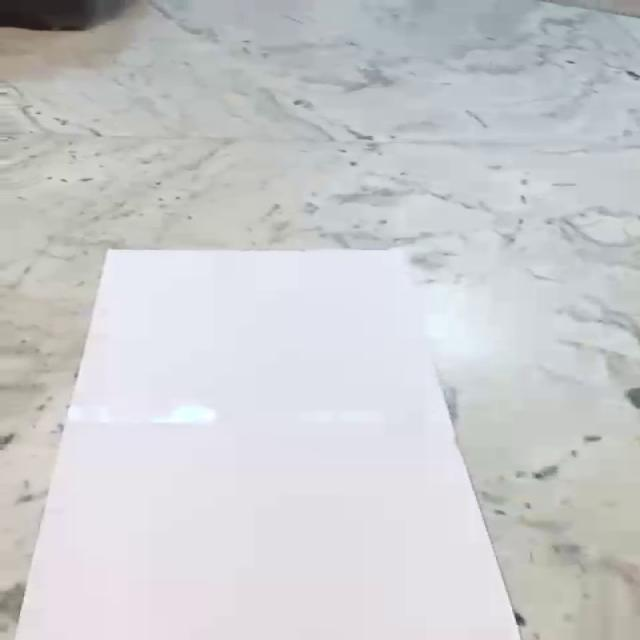road: (12, 249, 521, 640)
